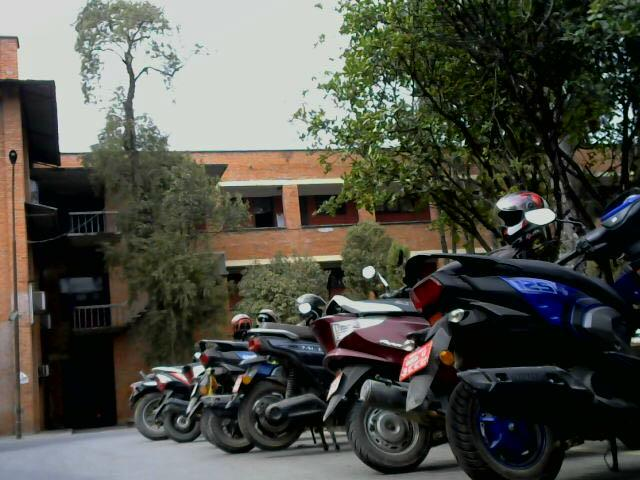Electrical Pole: (3, 139, 29, 446)
Motorcycle: (401, 185, 640, 480), (301, 276, 420, 467), (239, 293, 311, 461), (192, 333, 243, 454), (151, 340, 190, 441), (125, 349, 161, 442)
Road: (13, 436, 366, 480)
Tree: (335, 2, 640, 165), (75, 0, 220, 335)
